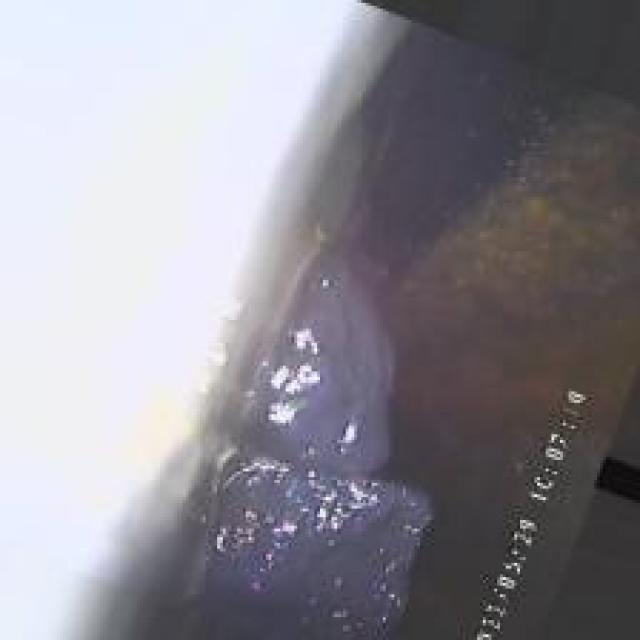stone: (232, 280, 428, 626)
